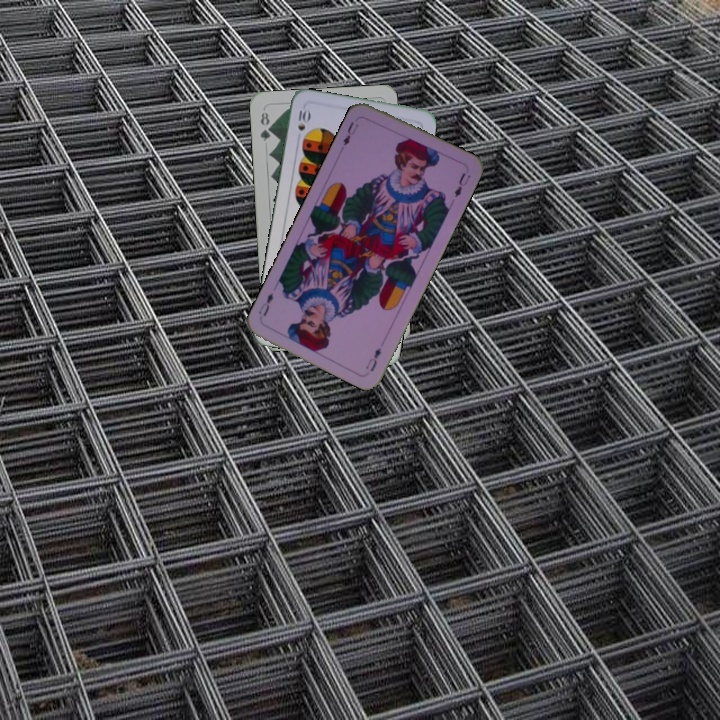EU: (361, 344, 384, 374), (339, 117, 361, 148)
G8: (256, 108, 274, 143)
S10: (294, 106, 312, 134)
